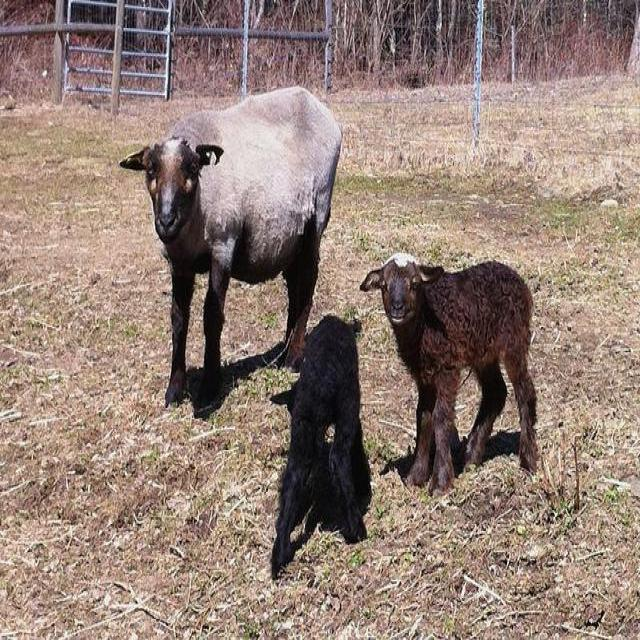Sheep: (118, 86, 343, 416), (360, 254, 537, 499), (269, 309, 362, 578)
